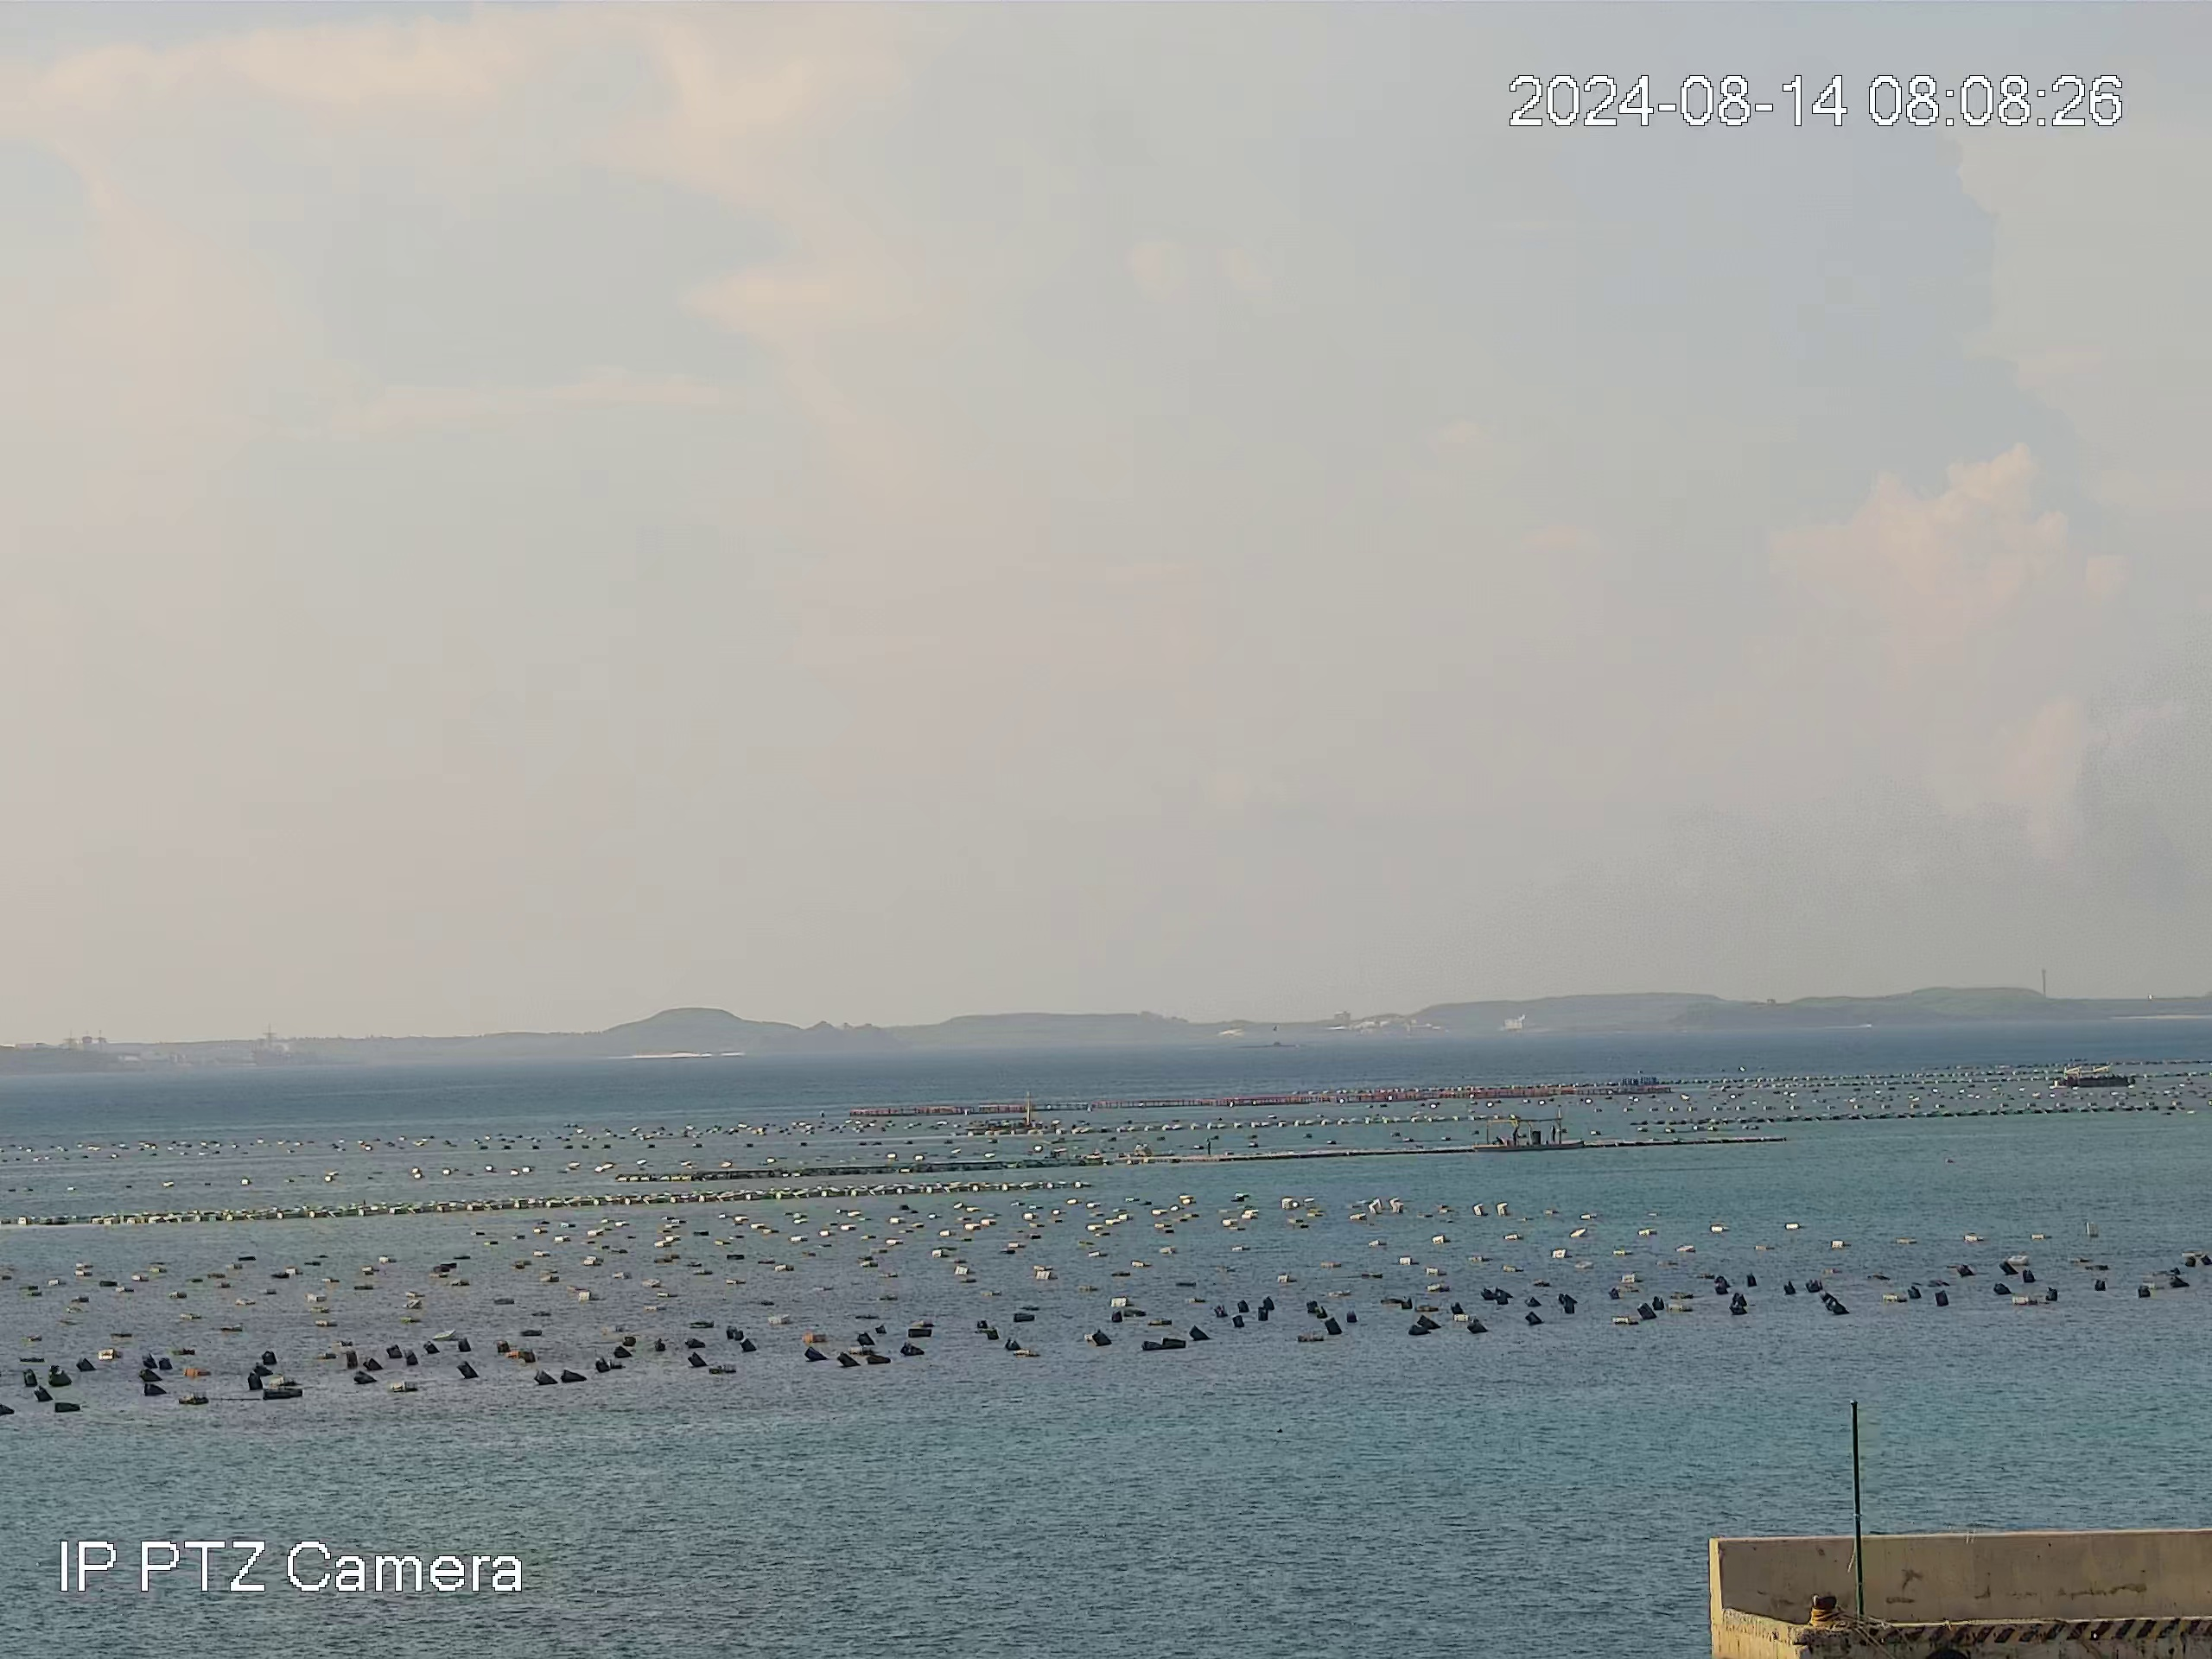boat: (1476, 1114, 1586, 1149), (2052, 1064, 2139, 1089)
